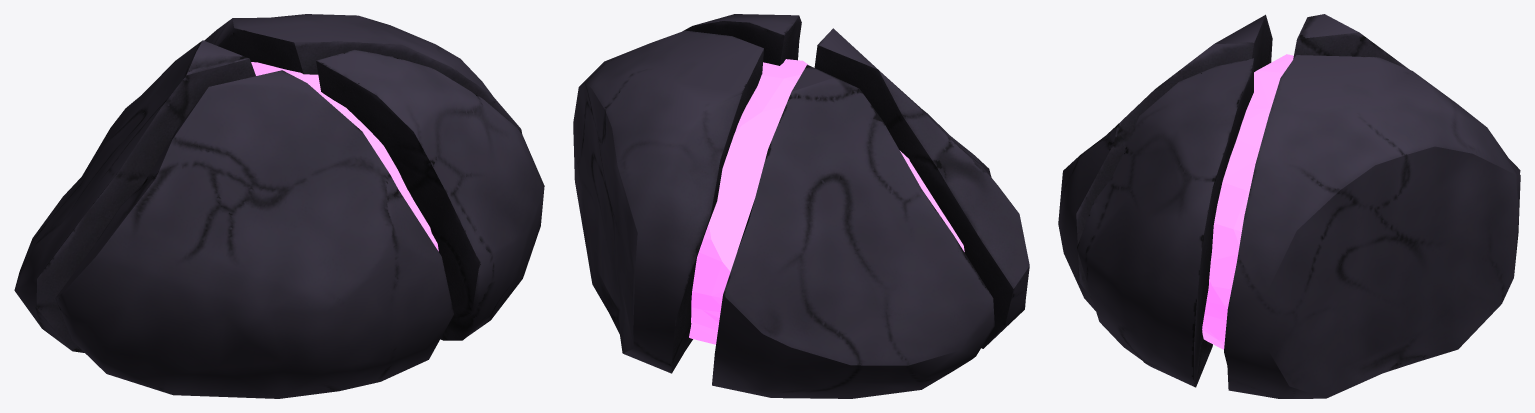
The model's file is RocaOscura_Partida.fbx.
3 views of the same model, side by side, from view 1: azimuth 30°, elevation 25°; view 2: azimuth 150°, elevation 25°; view 3: azimuth 270°, elevation 25° (orthographic).
Parts seen in each view (by area): view 1: RocaOscura_Partida, RocaOscura_Partida_Nucleo; view 2: RocaOscura_Partida, RocaOscura_Partida_Nucleo; view 3: RocaOscura_Partida, RocaOscura_Partida_Nucleo.
Part boxes in pixels (x1,y1,x2,y2): RocaOscura_Partida: [14, 14, 544, 398]; RocaOscura_Partida_Nucleo: [251, 62, 438, 251]; RocaOscura_Partida: [573, 14, 1029, 398]; RocaOscura_Partida_Nucleo: [689, 59, 964, 344]; RocaOscura_Partida: [1058, 14, 1520, 398]; RocaOscura_Partida_Nucleo: [1202, 54, 1293, 349].
Bounding box in the file's own units: 2.04 × 1.15 × 1.79.
2 materials, 1 textured.
